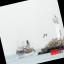fishing boat: (11, 35, 37, 60)
